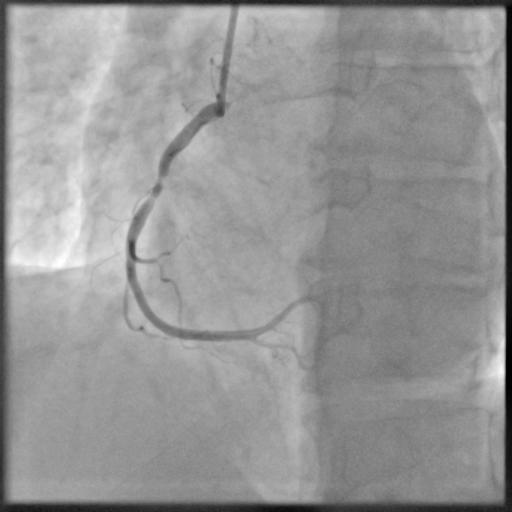Stenosis: (149, 168, 168, 192)
